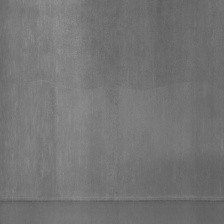welding_line: (0, 191, 224, 210)
